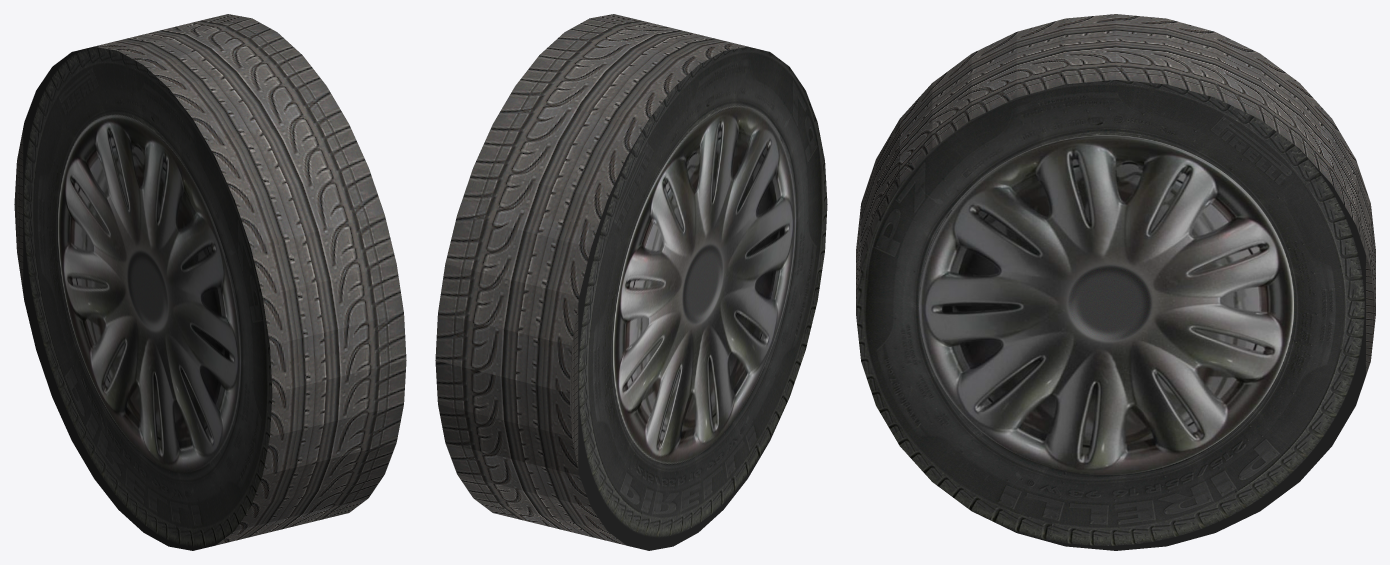
Rendered from Tire.obj.
3 views of the same model, side by side, from view 1: azimuth 30°, elevation 25°; view 2: azimuth 150°, elevation 25°; view 3: azimuth 270°, elevation 25° (orthographic).
Visible parts, largest first — view 1: Wheel_Cylinder; view 2: Wheel_Cylinder; view 3: Wheel_Cylinder.
Boxes of the visible parts, <box> form: Wheel_Cylinder: <box>14,14,406,550</box>; Wheel_Cylinder: <box>435,14,827,550</box>; Wheel_Cylinder: <box>856,14,1375,550</box>.
Size of the model in its own units: 0.184 by 0.6134 by 0.6134.
